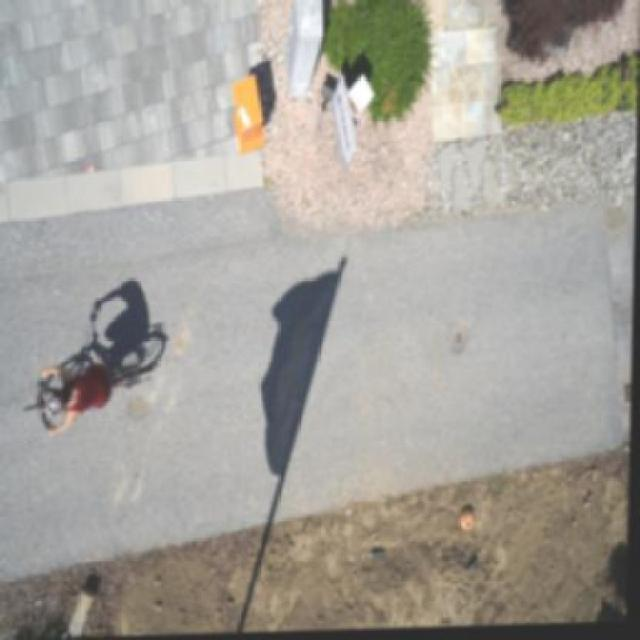Person: (32, 360, 119, 438)
